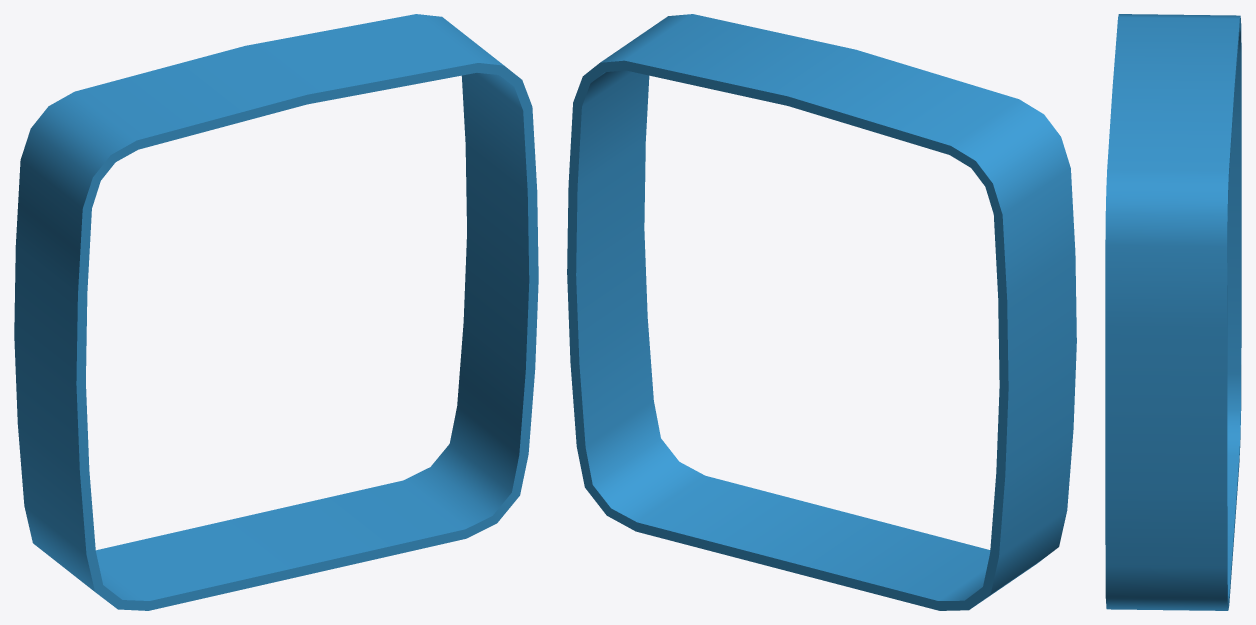
File: ChristmasTree_Dif3_Sc1.fbx
The picture shows the model from 3 angles, left to right: view 1: azimuth 30°, elevation 25°; view 2: azimuth 150°, elevation 25°; view 3: azimuth 270°, elevation 25°; orthographic projection. The views are drawn at different scales.
Parts seen in each view (by area): view 1: ChristmasTree_Dif3_Sc1; view 2: ChristmasTree_Dif3_Sc1; view 3: ChristmasTree_Dif3_Sc1.
Part boxes in pixels (x1=…): ChristmasTree_Dif3_Sc1: x1=14, y1=14, x2=538, y2=610; ChristmasTree_Dif3_Sc1: x1=567, y1=14, x2=1076, y2=610; ChristmasTree_Dif3_Sc1: x1=1105, y1=14, x2=1241, y2=610.
Size of the model in its own units: 1.33 by 0.3689 by 1.33.
